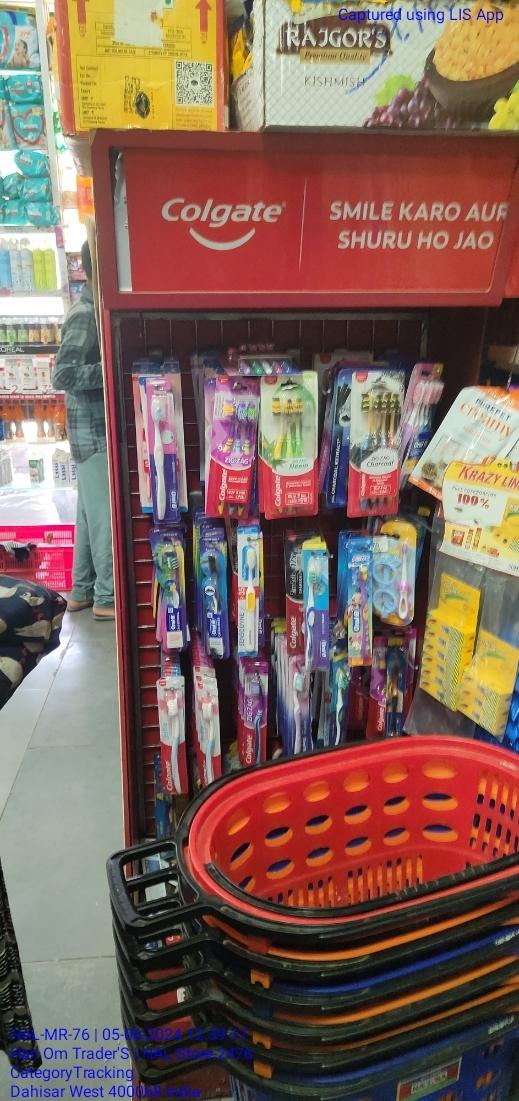9: (151, 531, 190, 652)
liquid soap: (349, 371, 398, 514)
